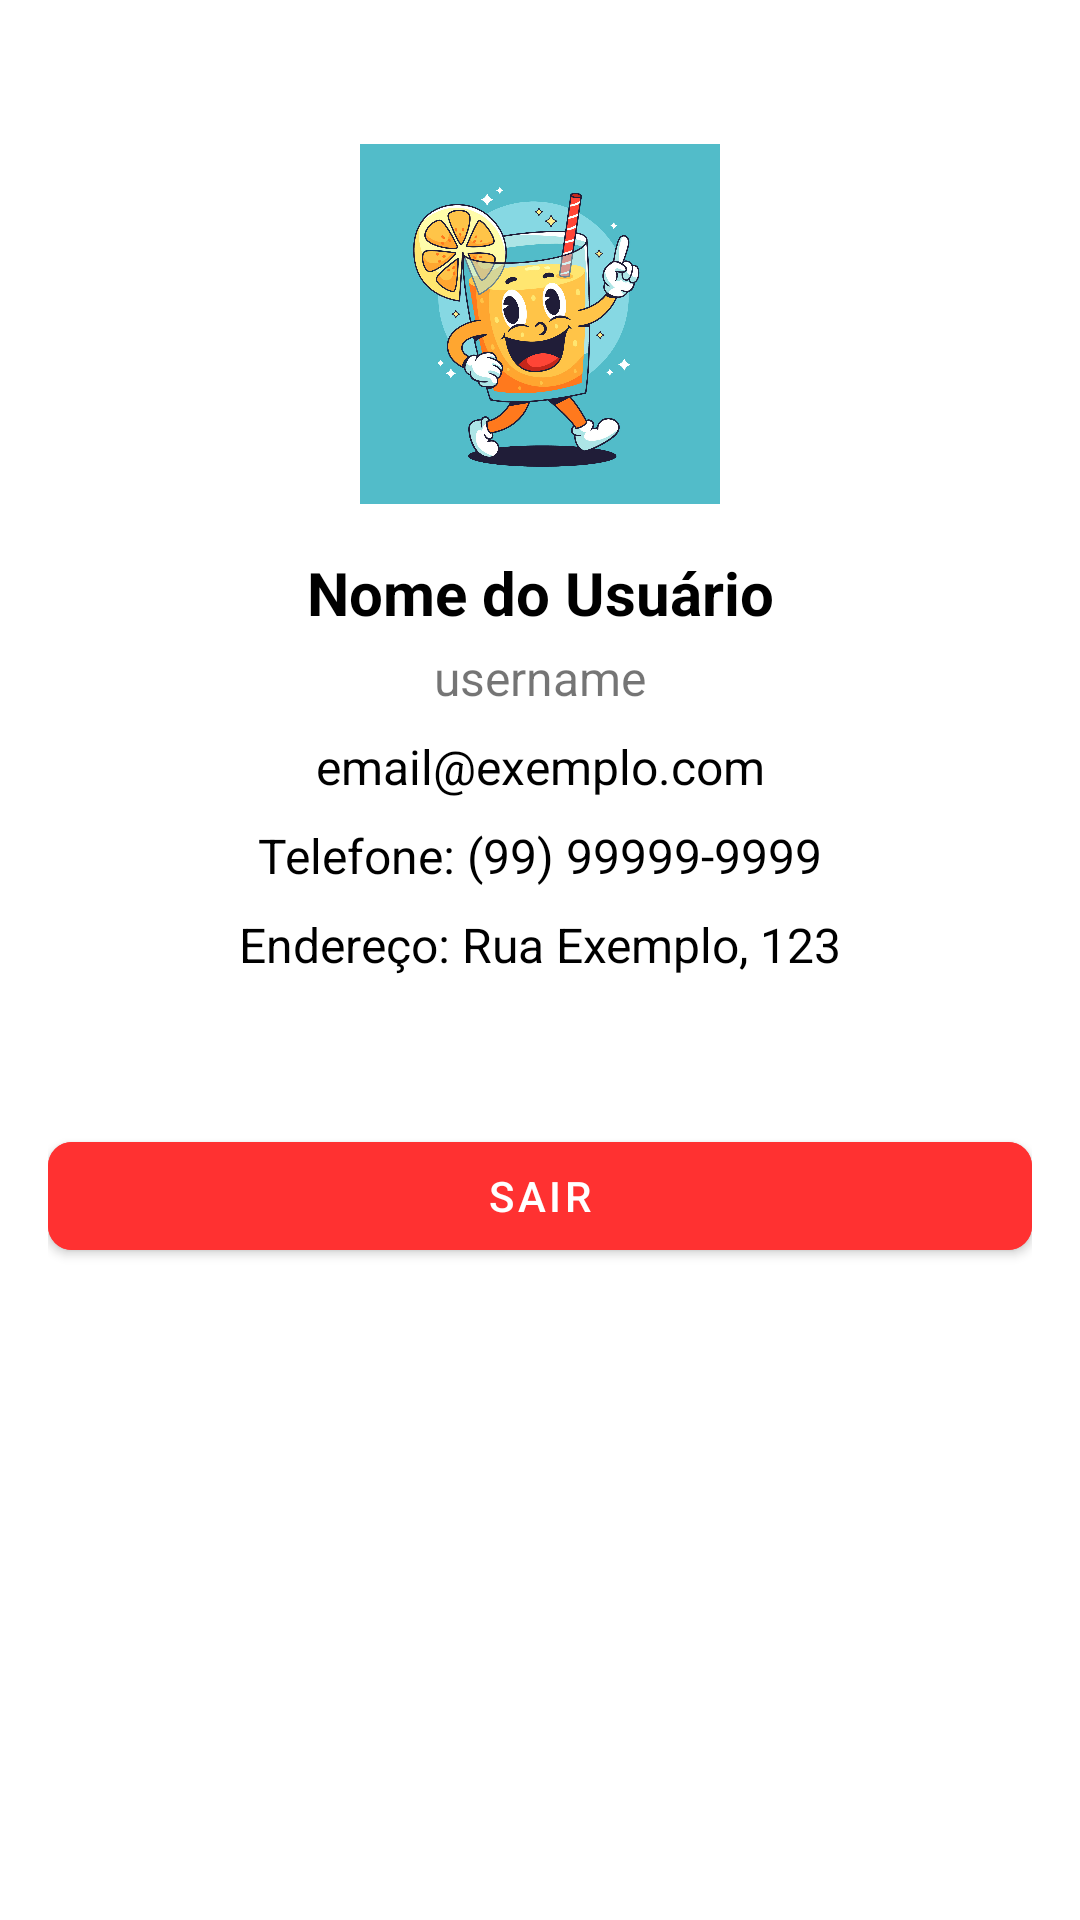

Named icons in this screenshot (1080px x 1920px) and their bounding boxes, (x1, y1, x2, y2):
profile pic: (360, 144, 720, 504)
